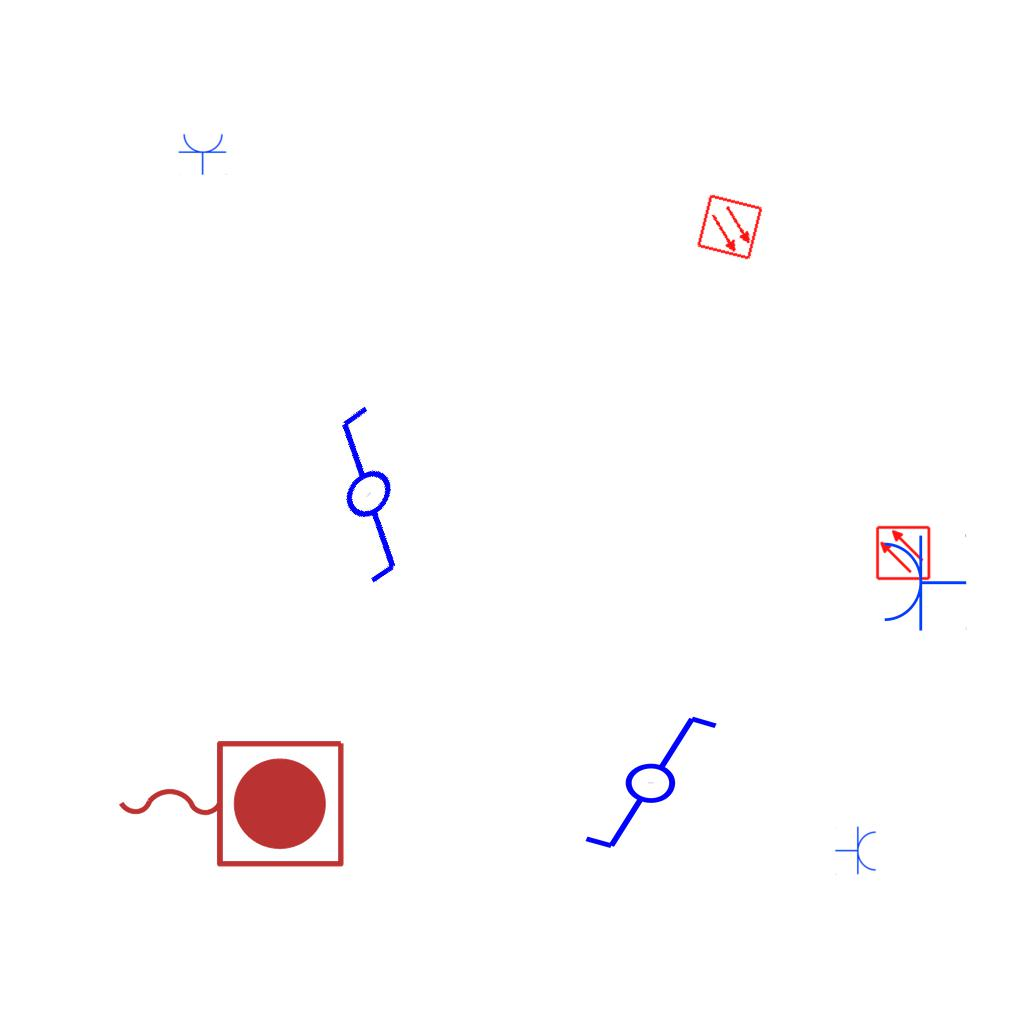RMO_Rauchmelder_optischer: (696, 193, 764, 261), (875, 525, 931, 581)
Schukosteckdose_einfach: (880, 532, 967, 632), (835, 826, 878, 876), (178, 132, 228, 175)
Wechselschalter: (270, 382, 481, 596), (564, 709, 721, 853)
Zugtaster: (108, 730, 352, 874)
